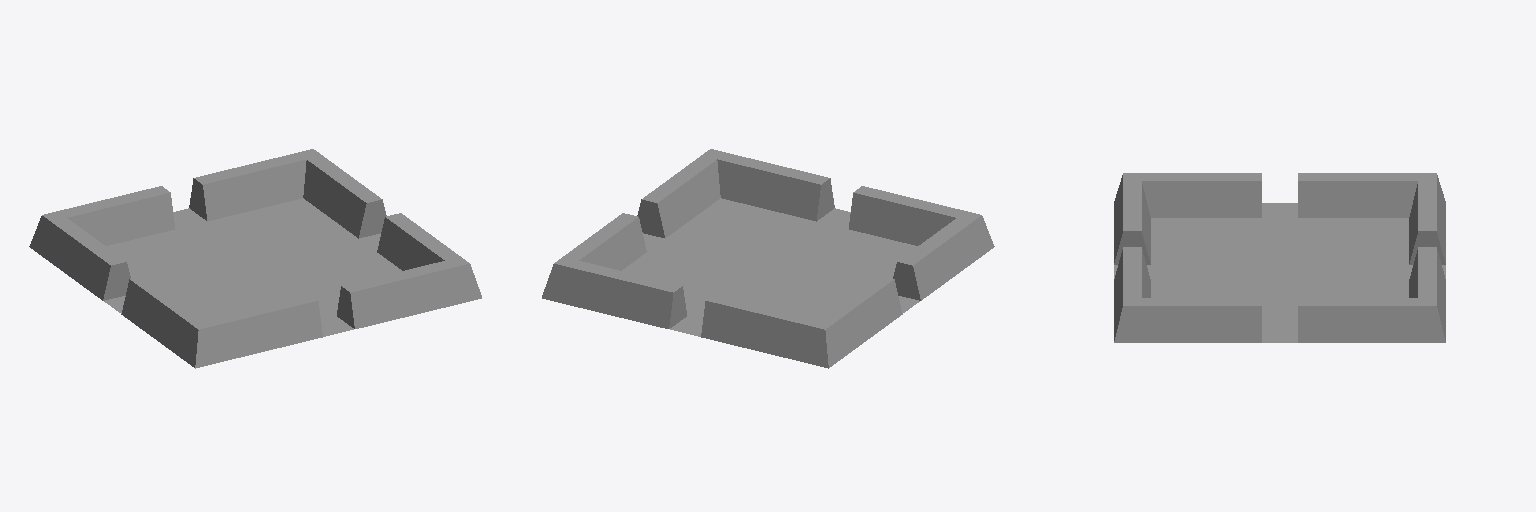
File: sala_15.obj
The picture shows the model from 3 angles: view 1: azimuth 30°, elevation 25°; view 2: azimuth 150°, elevation 25°; view 3: azimuth 270°, elevation 25°; orthographic projection.
Visible parts, largest first — view 1: Ground_Plane, Wall.000_Cube.011, Wall.007_Cube.017, Wall.002_Cube.014, Wall.004_Cube.015, Wall.005_Cube.002, Wall.003_Cube.010, Wall.006_Cube.016, Wall.001_Cube.012; view 2: Ground_Plane, Wall.002_Cube.014, Wall.005_Cube.002, Wall.000_Cube.011, Wall.006_Cube.016, Wall.007_Cube.017, Wall.001_Cube.012, Wall.004_Cube.015, Wall.003_Cube.010; view 3: Ground_Plane, Wall.003_Cube.010, Wall.001_Cube.012, Wall.004_Cube.015, Wall.006_Cube.016, Wall.005_Cube.002, Wall.007_Cube.017, Wall.000_Cube.011, Wall.002_Cube.014.
Boxes of the visible parts, x1,y1,x2,y2 form: Ground_Plane: [104, 198, 401, 336]; Wall.000_Cube.011: [337, 261, 481, 328]; Wall.007_Cube.017: [195, 294, 322, 368]; Wall.002_Cube.014: [189, 149, 312, 221]; Wall.004_Cube.015: [29, 215, 130, 300]; Wall.005_Cube.002: [44, 186, 174, 245]; Wall.003_Cube.010: [303, 149, 386, 238]; Wall.006_Cube.016: [121, 275, 204, 367]; Wall.001_Cube.012: [377, 213, 468, 270]; Ground_Plane: [622, 198, 919, 336]; Wall.002_Cube.014: [542, 261, 686, 328]; Wall.005_Cube.002: [701, 294, 828, 368]; Wall.000_Cube.011: [711, 149, 834, 221]; Wall.006_Cube.016: [893, 215, 994, 300]; Wall.007_Cube.017: [849, 186, 979, 245]; Wall.001_Cube.012: [637, 149, 720, 238]; Wall.004_Cube.015: [819, 275, 902, 367]; Wall.003_Cube.010: [555, 213, 646, 270]; Ground_Plane: [1114, 203, 1445, 342]; Wall.003_Cube.010: [1298, 298, 1445, 342]; Wall.001_Cube.012: [1114, 298, 1261, 342]; Wall.004_Cube.015: [1298, 173, 1435, 217]; Wall.006_Cube.016: [1124, 173, 1261, 217]; Wall.005_Cube.002: [1409, 173, 1445, 264]; Wall.007_Cube.017: [1114, 173, 1150, 264]; Wall.000_Cube.011: [1114, 247, 1150, 340]; Wall.002_Cube.014: [1409, 247, 1445, 340].
Bounding box in the file's own units: 18 × 2 × 18.